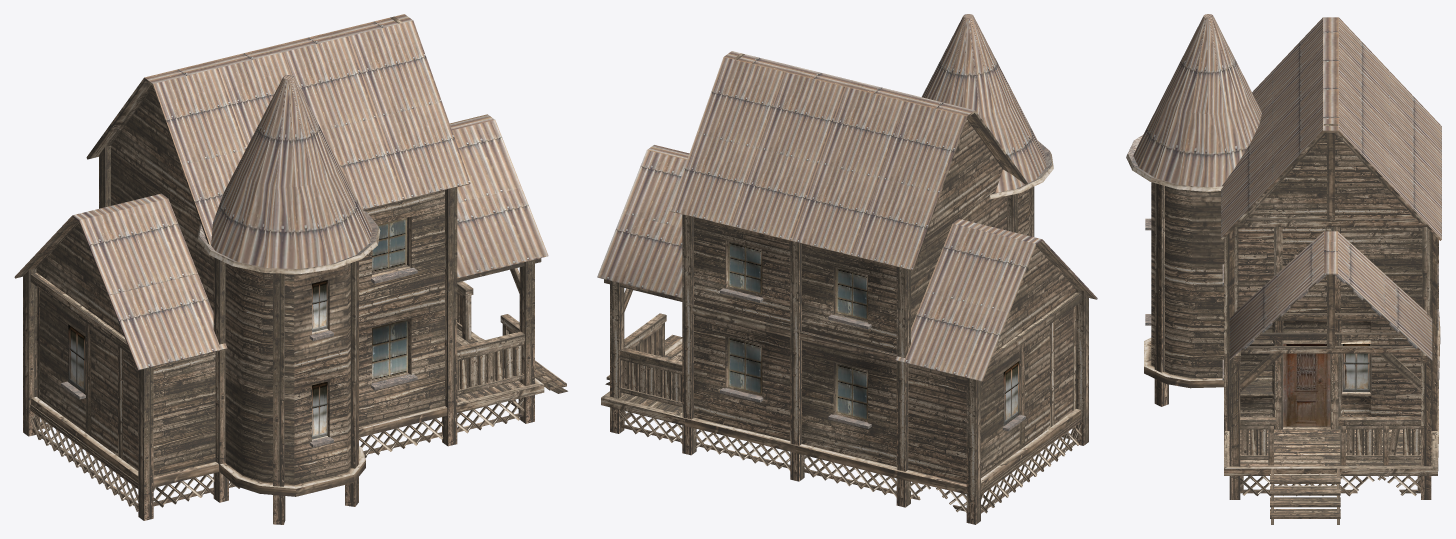
File: LW_House_2.fbx
The picture shows the model from 3 angles, left to right: view 1: azimuth 30°, elevation 25°; view 2: azimuth 150°, elevation 25°; view 3: azimuth 270°, elevation 25°; orthographic projection. The views are drawn at different scales.
Visible parts, largest first — view 1: Cube; view 2: Cube; view 3: Cube.
Boxes of the visible parts, <box> form: Cube: <box>14,14,567,524</box>; Cube: <box>597,14,1097,524</box>; Cube: <box>1126,14,1441,524</box>.
Bounding box in the file's own units: 1818 × 1577 × 1214.
1 material, 1 textured.
